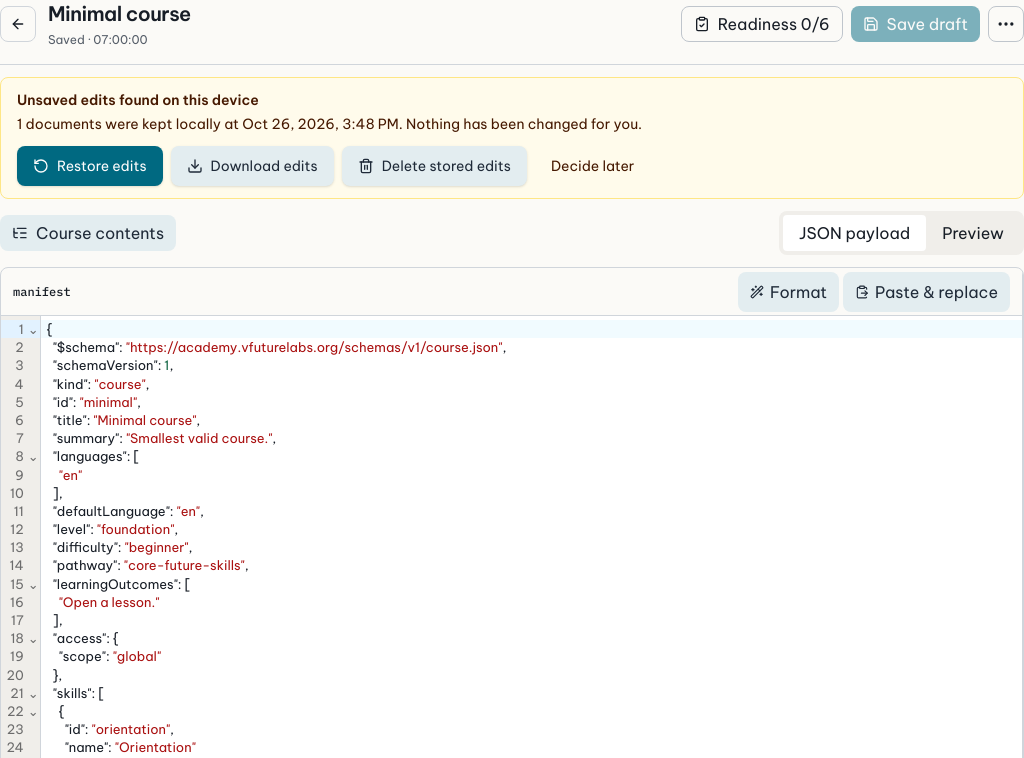
Test: clearing recovery › discards this tab record on request
Expected: the heading "Unsaved edits found on this device" is shown, x1=17 y1=91 x2=259 y2=109
Click the button "Delete stored edits". click: coordinates (434, 166)
box: x1=342 y1=146 x2=527 y2=186
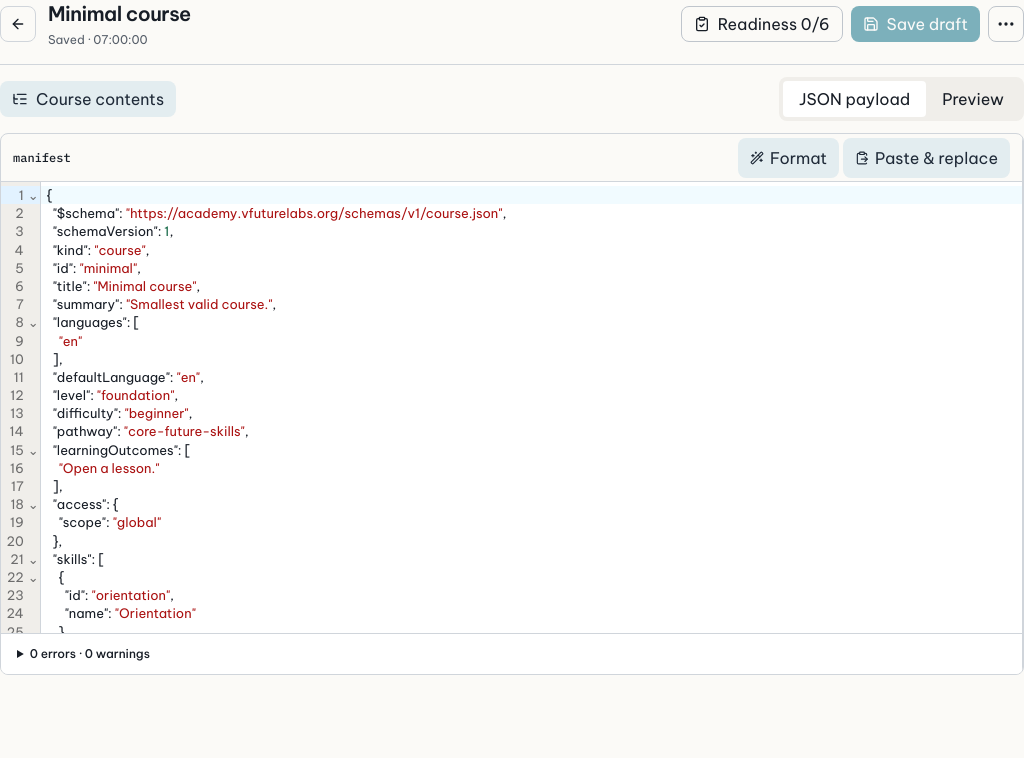
Expected: the heading "Unsaved edits found" is gone
